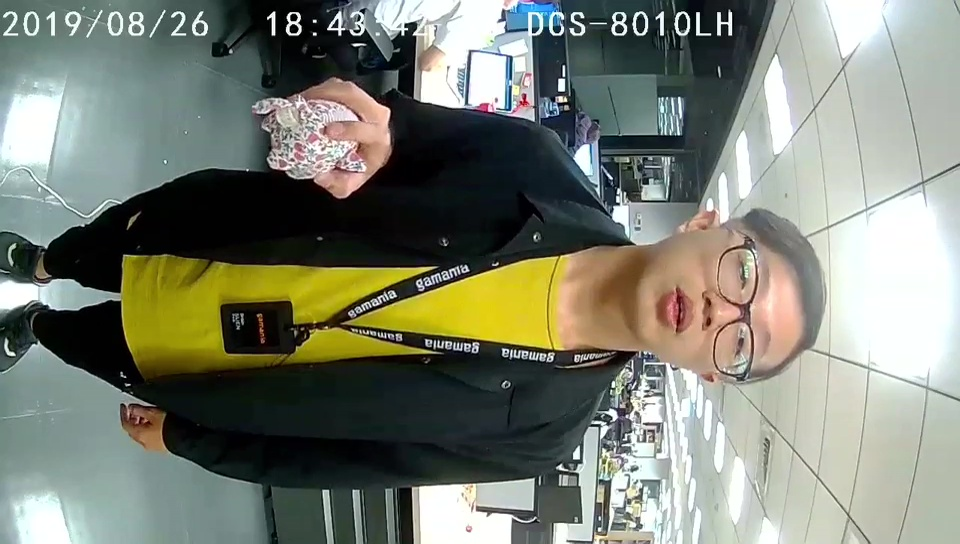pig: (264, 94, 369, 180)
